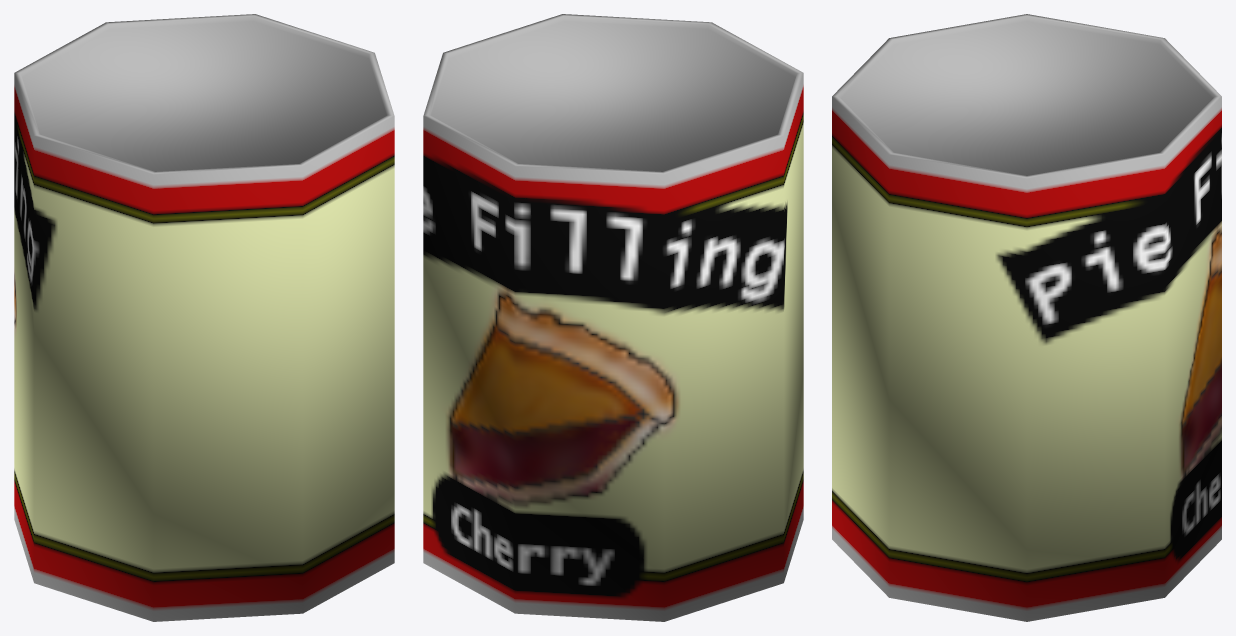
Rendered from PieFilling.fbx.
3 renders of one model, left to right at view 1: azimuth 30°, elevation 25°; view 2: azimuth 150°, elevation 25°; view 3: azimuth 270°, elevation 25°, orthographic.
Parts seen in each view (by area): view 1: Cylinder; view 2: Cylinder; view 3: Cylinder.
Part boxes in pixels (x1,y1,x2,y2): Cylinder: [14, 14, 394, 621]; Cylinder: [423, 14, 803, 621]; Cylinder: [832, 14, 1221, 621].
Bounding box in the file's own units: 0.5442 × 0.6826 × 0.5442.
